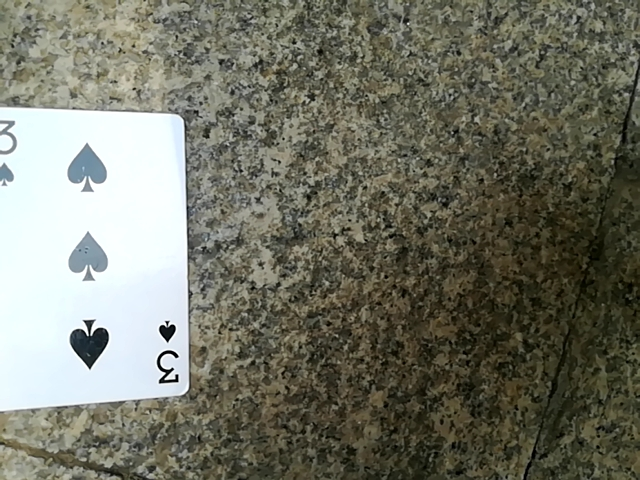ht 3: (1, 100, 183, 429)
